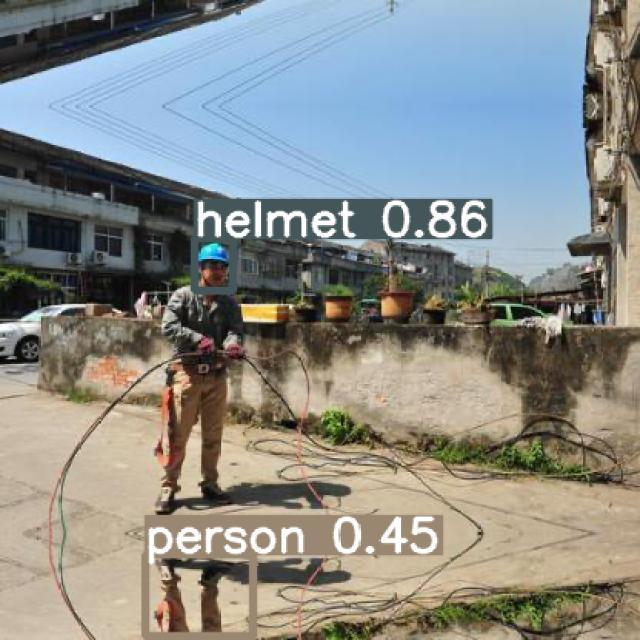blue helmet: (186, 241, 238, 286)
